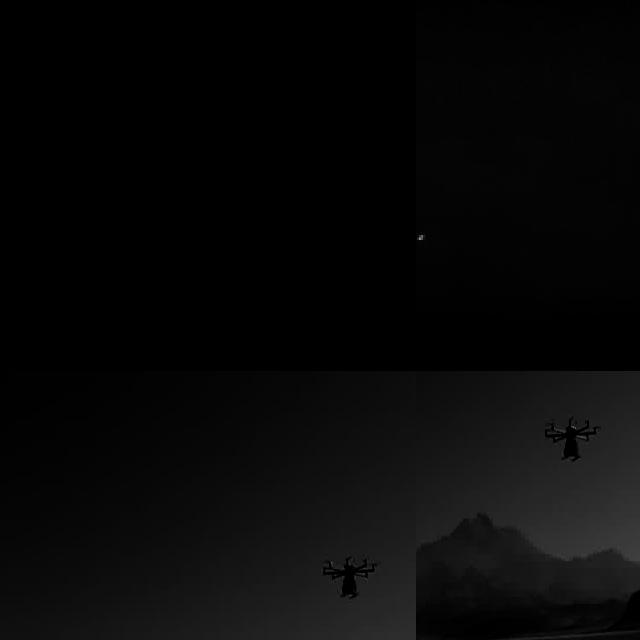0: (143, 364, 165, 371)
1: (416, 226, 439, 253)
drone: (320, 552, 381, 607), (543, 409, 600, 467)
